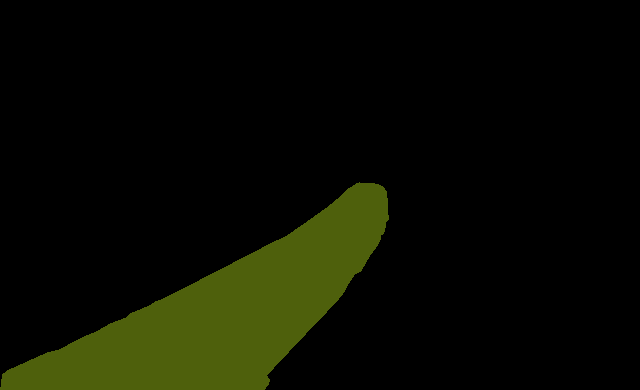Train: (0, 182, 388, 390)
